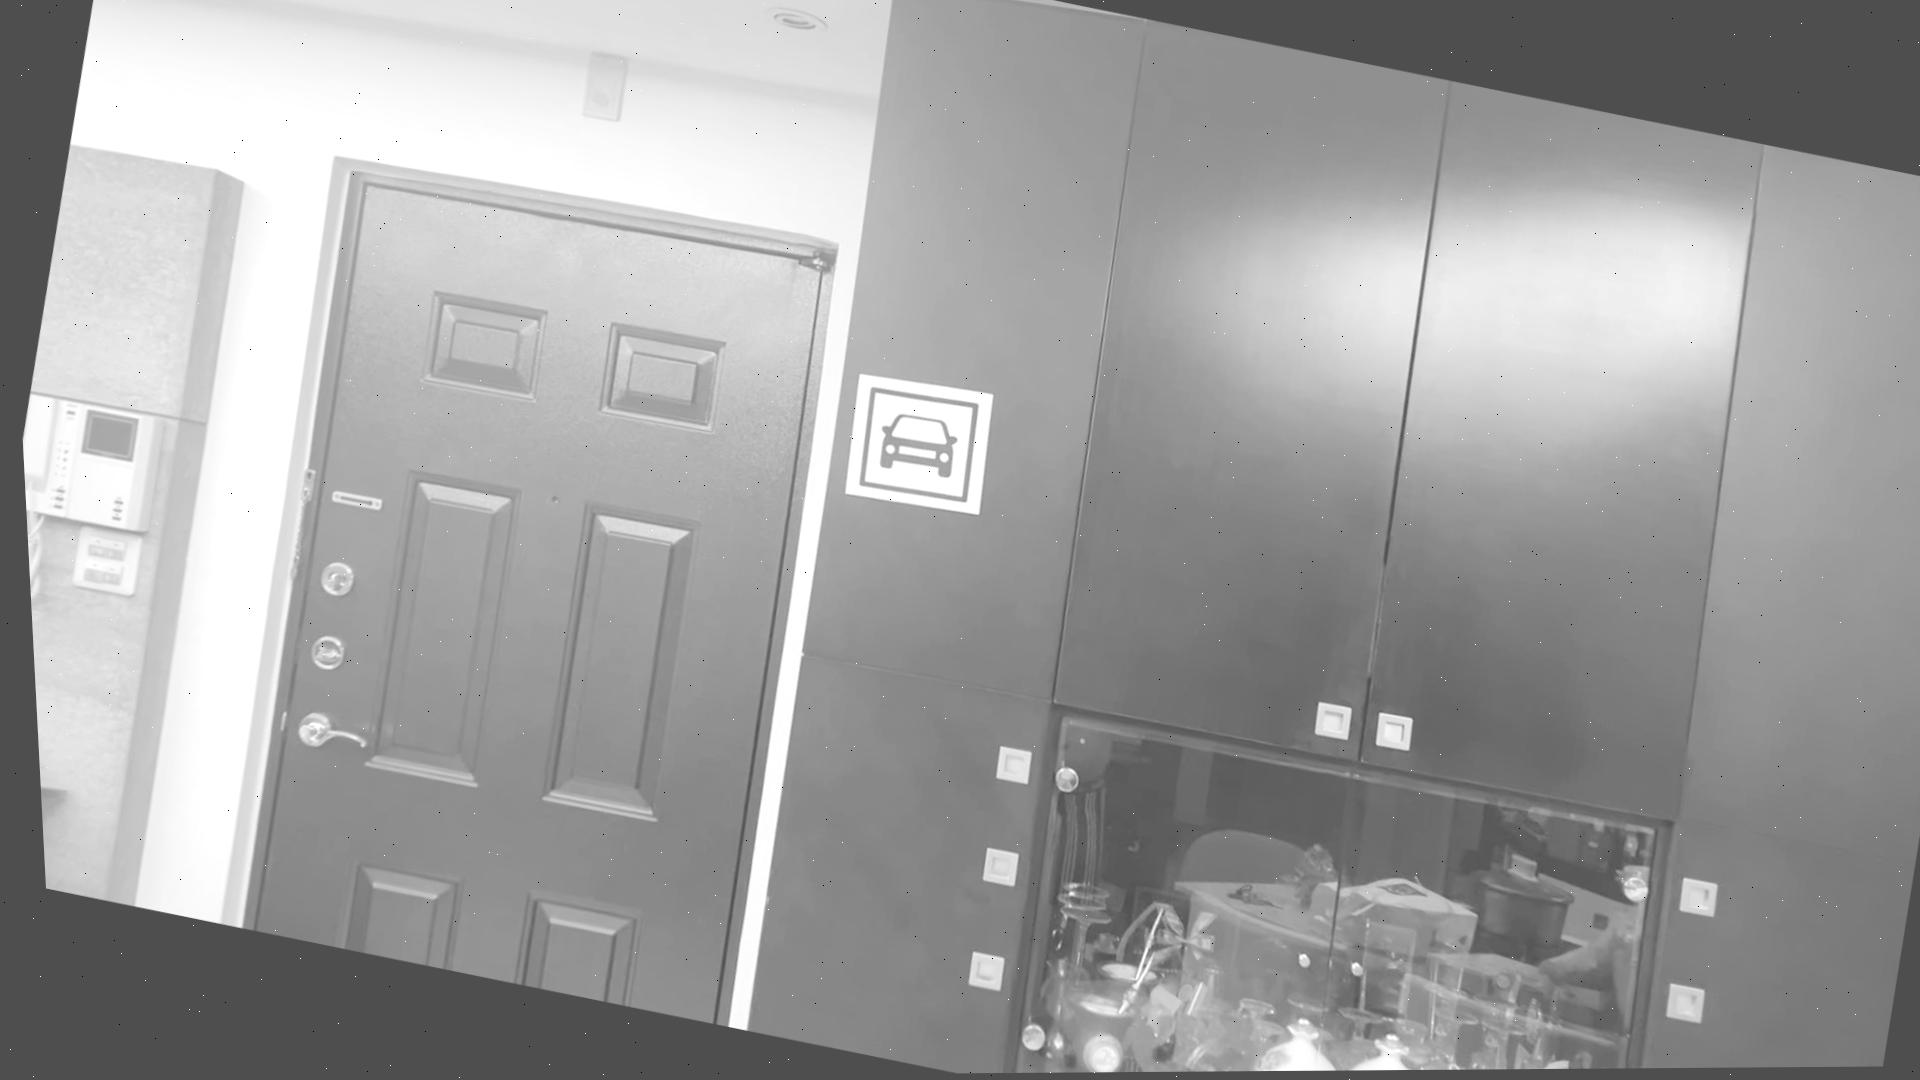car_img: (844, 377, 986, 513)
